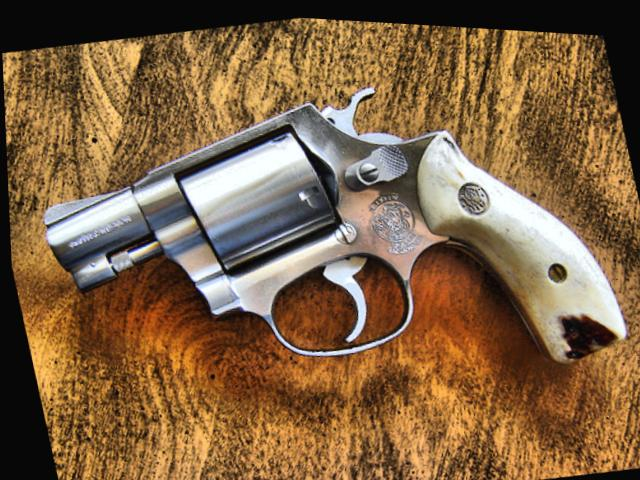pistol: (13, 26, 632, 454)
